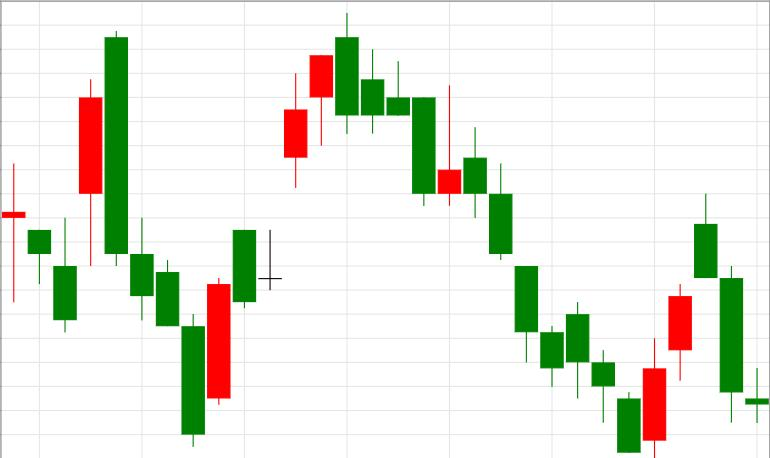bullish_engulfing_rise: (464, 127, 665, 458)
hanging_man_fall: (208, 55, 332, 405)
inverse_hammer_rise: (335, 14, 461, 206)
